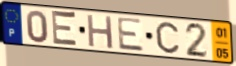0: (25, 9, 50, 45)
2: (185, 22, 209, 60)
C: (154, 20, 181, 55)
E: (51, 8, 79, 49), (116, 16, 146, 53)
H: (86, 13, 115, 51)
